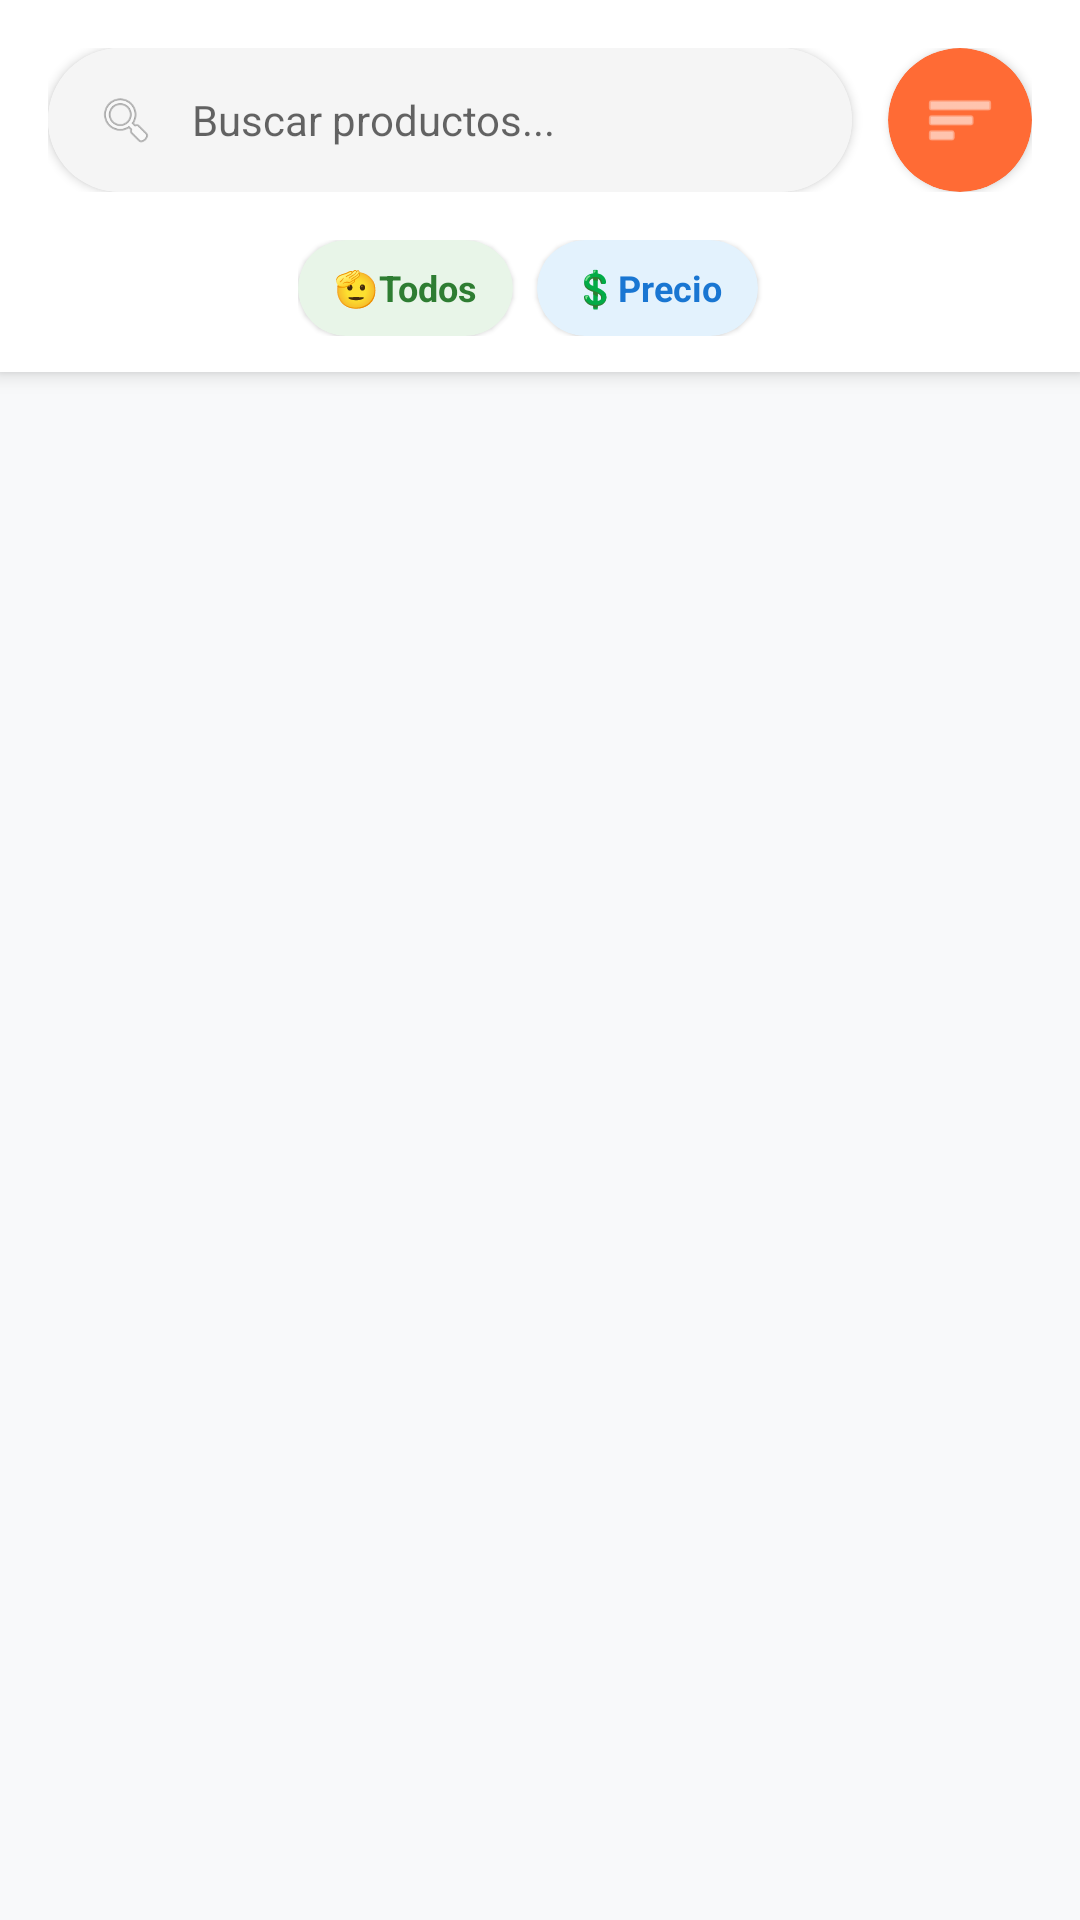

Icons on this 1080*1920 Android screen, each with its box as (left=x1, top=y1, right=x2, bottom=y2):
search: (left=104, top=98, right=148, bottom=142)
sort by size: (left=929, top=100, right=991, bottom=141)
